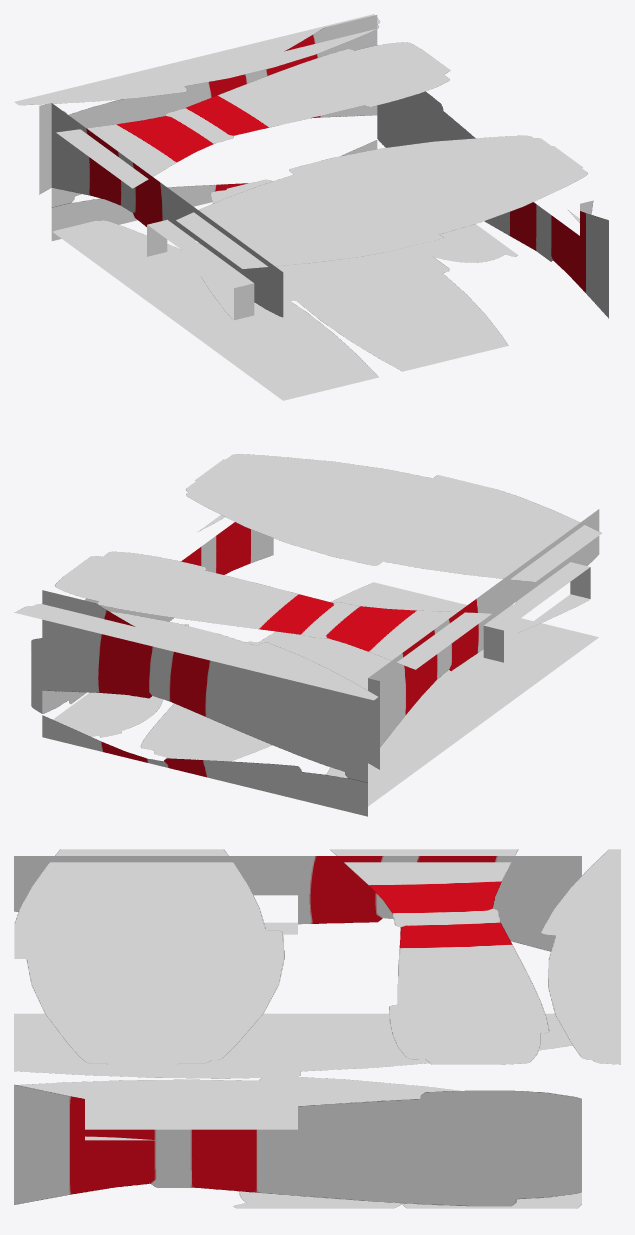
3 views of the same model, one above another, from view 1: azimuth 30°, elevation 25°; view 2: azimuth 150°, elevation 25°; view 3: azimuth 270°, elevation 25° (orthographic). The views are drawn at different scales.
Visible parts, largest first — view 1: Plane; view 2: Plane; view 3: Plane.
Boxes of the visible parts, x1=… form: Plane: x1=14, y1=14, x2=608, y2=400; Plane: x1=14, y1=454, x2=601, y2=816; Plane: x1=14, y1=849, x2=620, y2=1208.
Bounding box in the file's own units: 278 × 107 × 326.
